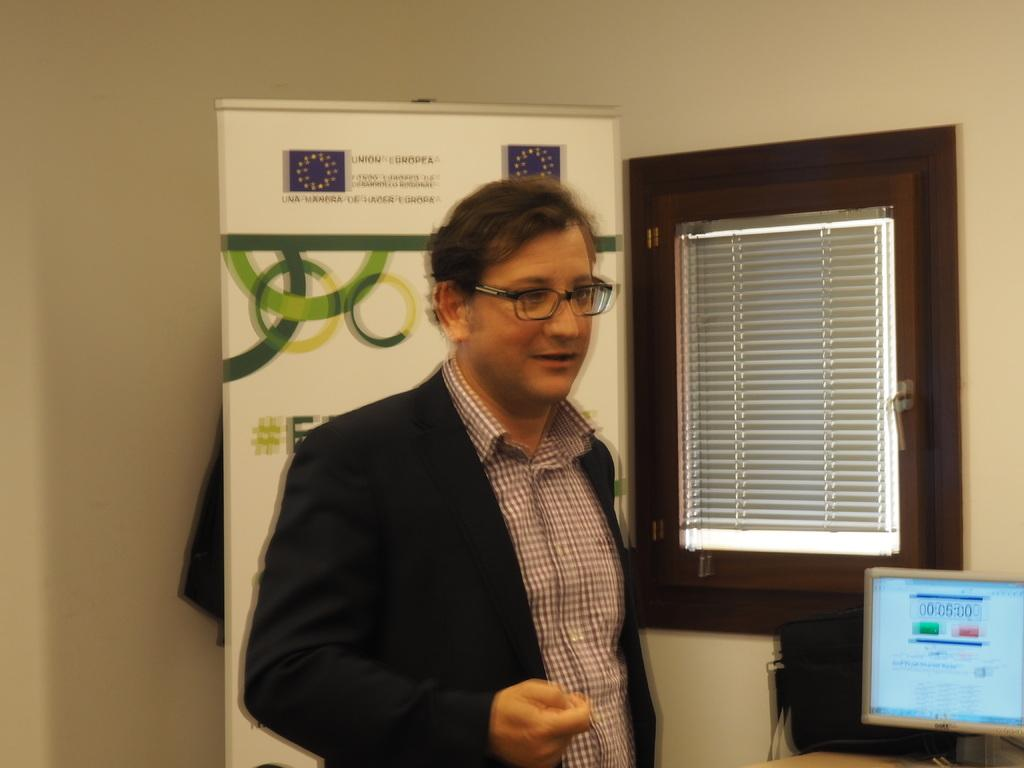Computer-monitor: (860, 571, 1004, 768)
